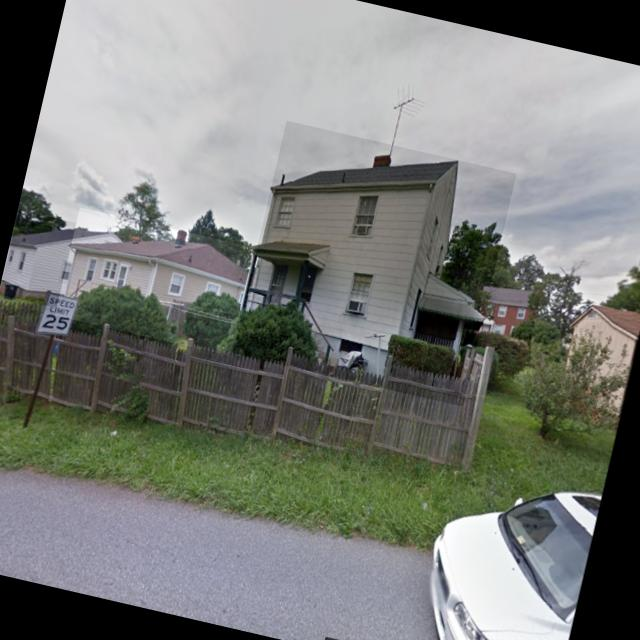House: (232, 120, 516, 406), (54, 207, 255, 356), (0, 209, 122, 318), (549, 300, 640, 425), (470, 280, 540, 342)
